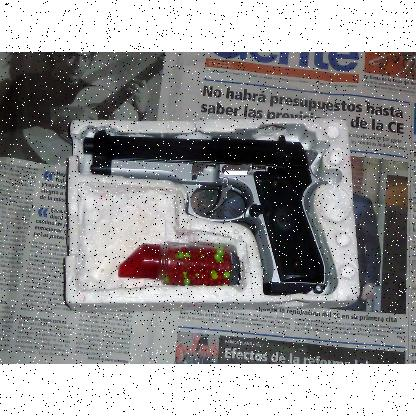gun: (83, 128, 329, 294)
